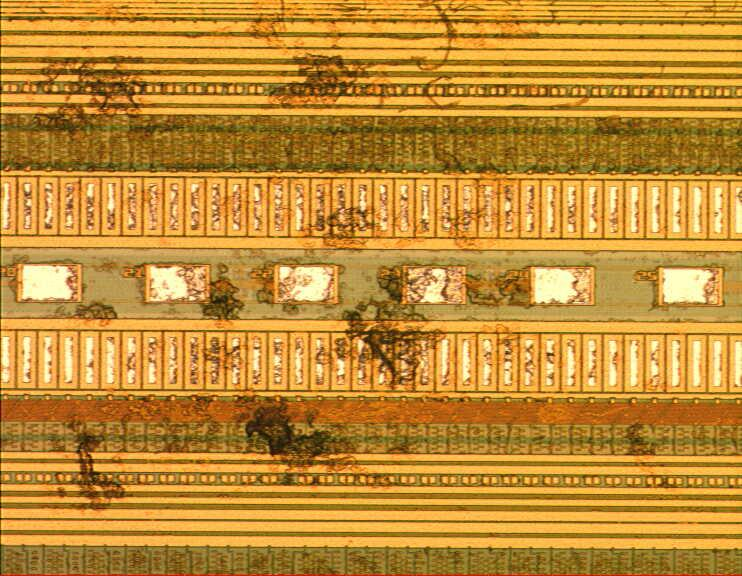PO CONTAMINATION: (1, 1, 742, 512)
